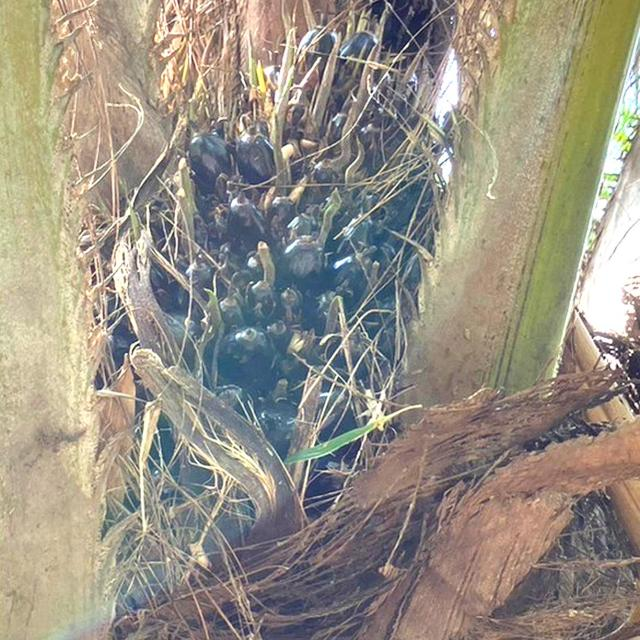unripe: (63, 0, 460, 569)
